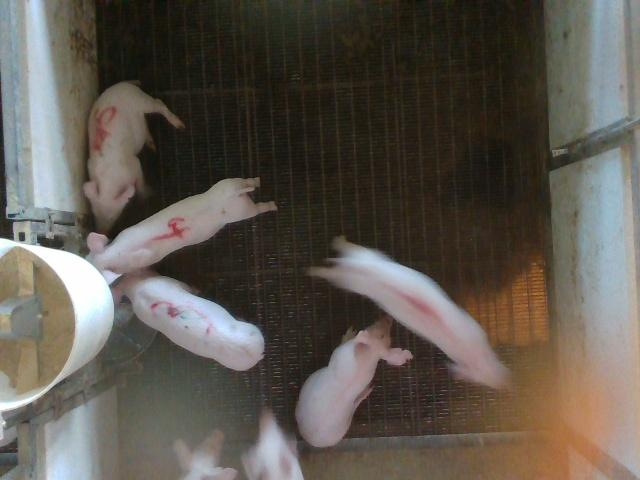pig-1: (309, 236, 510, 388)
pig-3: (112, 270, 264, 369)
pig-4: (88, 178, 276, 283)
pig-5: (84, 81, 184, 233)
